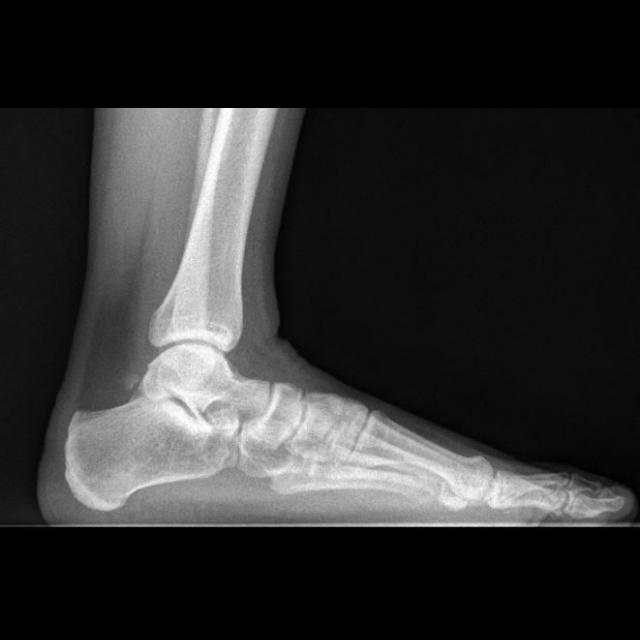a: (64, 396, 242, 510)
b: (247, 380, 304, 445)
c: (351, 407, 494, 499)
